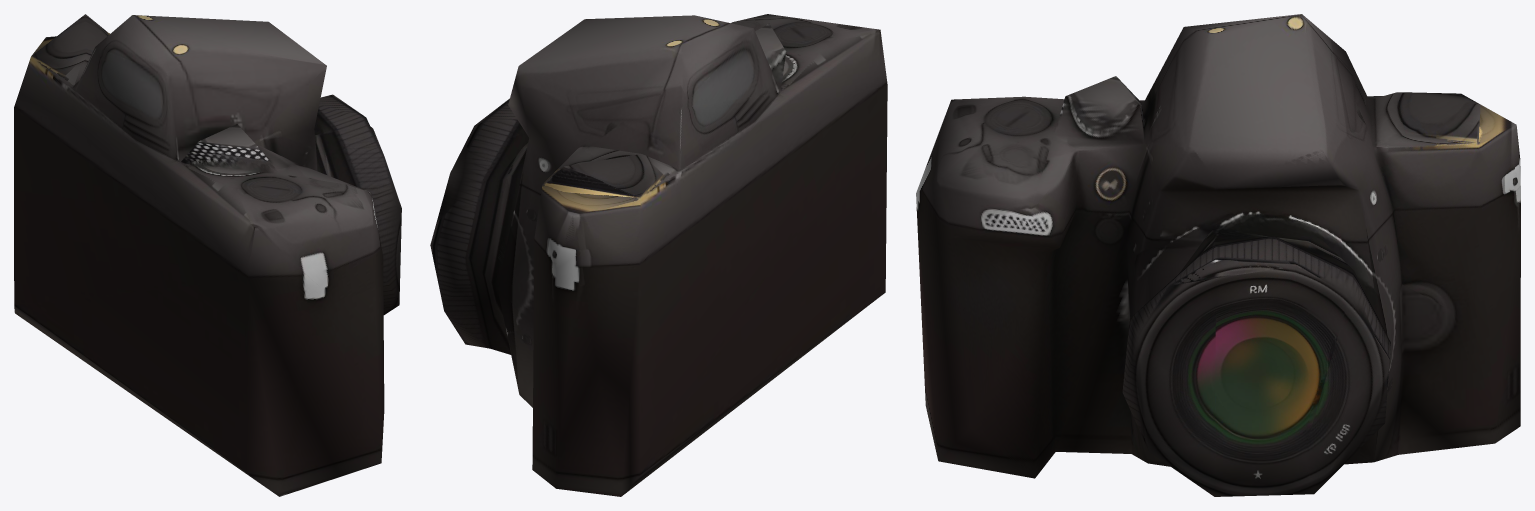
File: Camera.fbx
3 views of the same model, side by side, from view 1: azimuth 30°, elevation 25°; view 2: azimuth 150°, elevation 25°; view 3: azimuth 270°, elevation 25° (orthographic). The views are drawn at different scales.
Visible parts, largest first — view 1: tripo_node_1a4423b6; view 2: tripo_node_1a4423b6; view 3: tripo_node_1a4423b6.
Boxes of the visible parts, x1=… form: tripo_node_1a4423b6: x1=14, y1=14, x2=401, y2=496; tripo_node_1a4423b6: x1=430, y1=14, x2=887, y2=496; tripo_node_1a4423b6: x1=916, y1=14, x2=1520, y2=496.
Bounding box in the file's own units: 0.486 × 0.6841 × 0.9313.
Materials: 1 (1 with a texture image).
